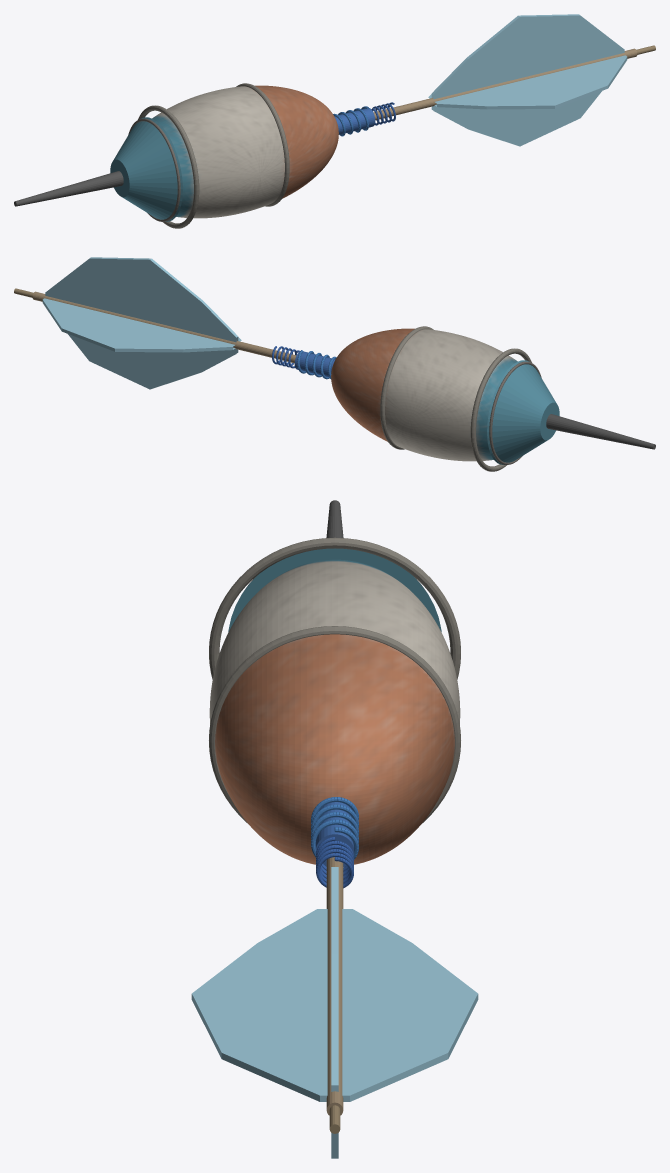
File: paser.glb
3 renders of one model, top to bottom at view 1: azimuth 30°, elevation 25°; view 2: azimuth 150°, elevation 25°; view 3: azimuth 270°, elevation 25°, orthographic. The views are drawn at different scales.
Parts seen in each view (by area): view 1: segmented_red_white_blue_body, blue_tail_fin_0, blue_front_nose, blue_tail_fin_3, front_metal_needle, tail_wooden_spine, seam_ring_-0.48, seam_ring_0.22, blue_tail_fin_1, blue_rear_neck, paint_edge_-0.58, blue_thread_wrap (+1 smaller); view 2: segmented_red_white_blue_body, blue_tail_fin_2, blue_front_nose, blue_tail_fin_3, tail_wooden_spine, front_metal_needle, seam_ring_-0.48, seam_ring_0.22, blue_tail_fin_1, blue_rear_neck, paint_edge_-0.58, blue_thread_wrap (+2 smaller); view 3: segmented_red_white_blue_body, blue_tail_fin_3, seam_ring_-0.48, seam_ring_0.22, blue_front_nose, tail_wooden_spine, blue_tail_fin_0, blue_tail_fin_1, blue_thread_wrap, fin_base_binding.
Boxes of the visible parts, bbox=[...] form: segmented_red_white_blue_body: bbox=[152, 85, 338, 218]; blue_tail_fin_0: bbox=[431, 14, 624, 146]; blue_front_nose: bbox=[110, 117, 182, 221]; blue_tail_fin_3: bbox=[428, 55, 626, 109]; front_metal_needle: bbox=[14, 171, 123, 206]; tail_wooden_spine: bbox=[373, 48, 637, 120]; seam_ring_-0.48: bbox=[138, 105, 199, 228]; seam_ring_0.22: bbox=[236, 83, 289, 206]; blue_tail_fin_1: bbox=[437, 57, 627, 109]; blue_rear_neck: bbox=[334, 108, 375, 134]; paint_edge_-0.58: bbox=[128, 118, 180, 221]; blue_thread_wrap: bbox=[333, 106, 368, 136]; segmented_red_white_blue_body: bbox=[331, 328, 517, 461]; blue_tail_fin_2: bbox=[45, 257, 238, 389]; blue_front_nose: bbox=[487, 360, 559, 464]; blue_tail_fin_3: bbox=[42, 298, 241, 352]; tail_wooden_spine: bbox=[32, 291, 296, 363]; front_metal_needle: bbox=[546, 414, 655, 449]; seam_ring_-0.48: bbox=[470, 348, 531, 471]; seam_ring_0.22: bbox=[380, 326, 433, 449]; blue_tail_fin_1: bbox=[42, 300, 232, 352]; blue_rear_neck: bbox=[294, 351, 335, 377]; paint_edge_-0.58: bbox=[489, 361, 541, 464]; blue_thread_wrap: bbox=[297, 350, 336, 379]; segmented_red_white_blue_body: bbox=[209, 559, 460, 864]; blue_tail_fin_3: bbox=[191, 909, 478, 1101]; seam_ring_-0.48: bbox=[209, 537, 460, 679]; seam_ring_0.22: bbox=[209, 626, 460, 823]; blue_front_nose: bbox=[228, 548, 441, 631]; tail_wooden_spine: bbox=[326, 845, 343, 1115]; blue_tail_fin_0: bbox=[331, 867, 338, 1158]; blue_tail_fin_1: bbox=[191, 994, 478, 1101]; blue_thread_wrap: bbox=[311, 797, 358, 859]; fin_base_binding: bbox=[316, 837, 353, 888].
Bounding box in the file's own units: 4.95 × 0.96 × 0.96.
